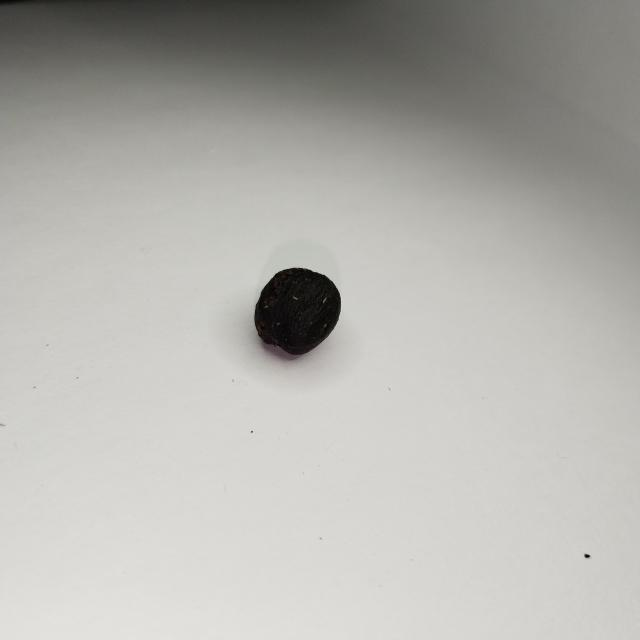Danado: (254, 243, 341, 358)
